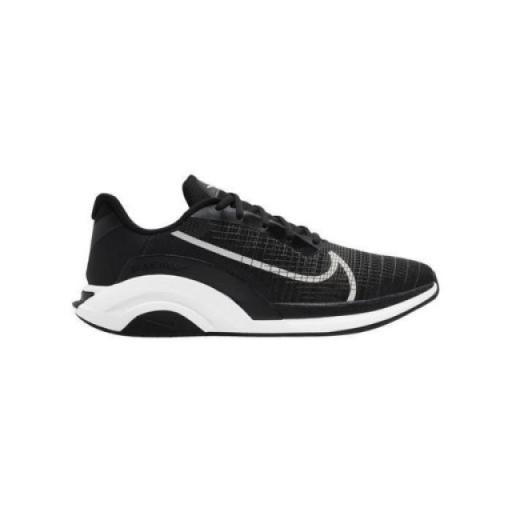Nike: (168, 229, 363, 310)
